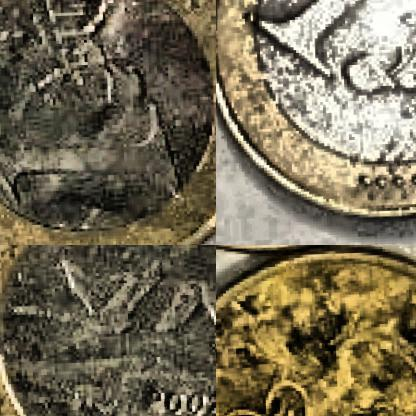coin: (0, 0, 215, 244), (216, 0, 415, 226), (0, 245, 215, 415), (216, 245, 415, 415)
